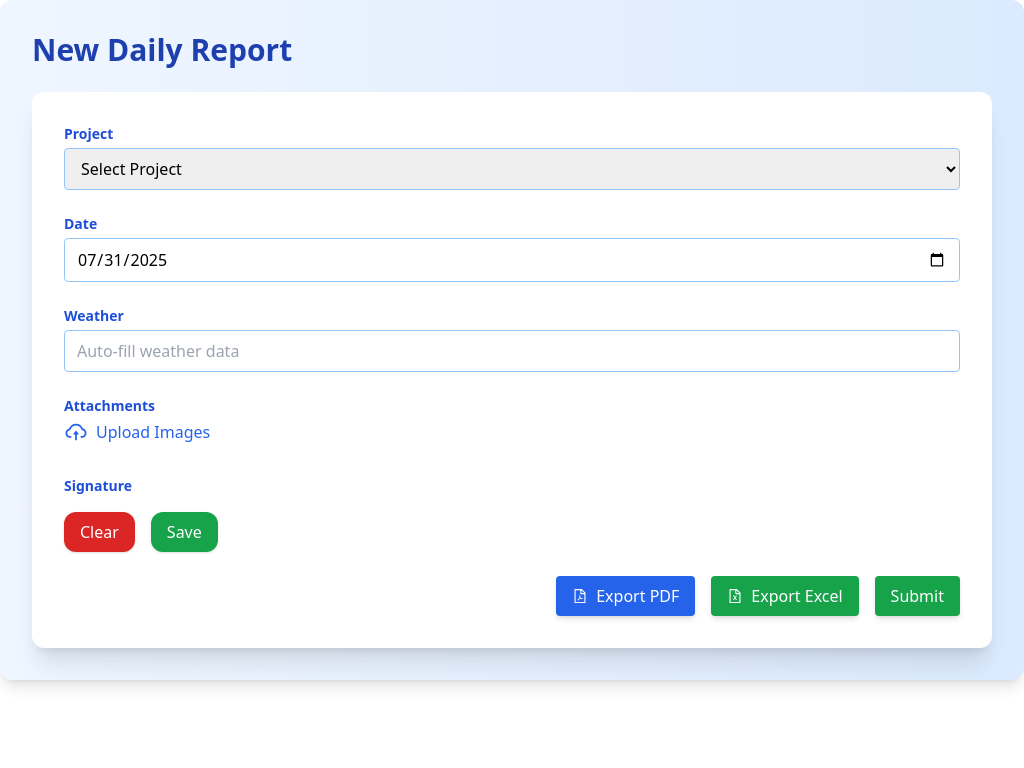
Test: NewDailyReport › shows error if PDF export fails
Click the button "Export PDF".
click(626, 596)  # box left=556, top=576, right=695, bottom=616
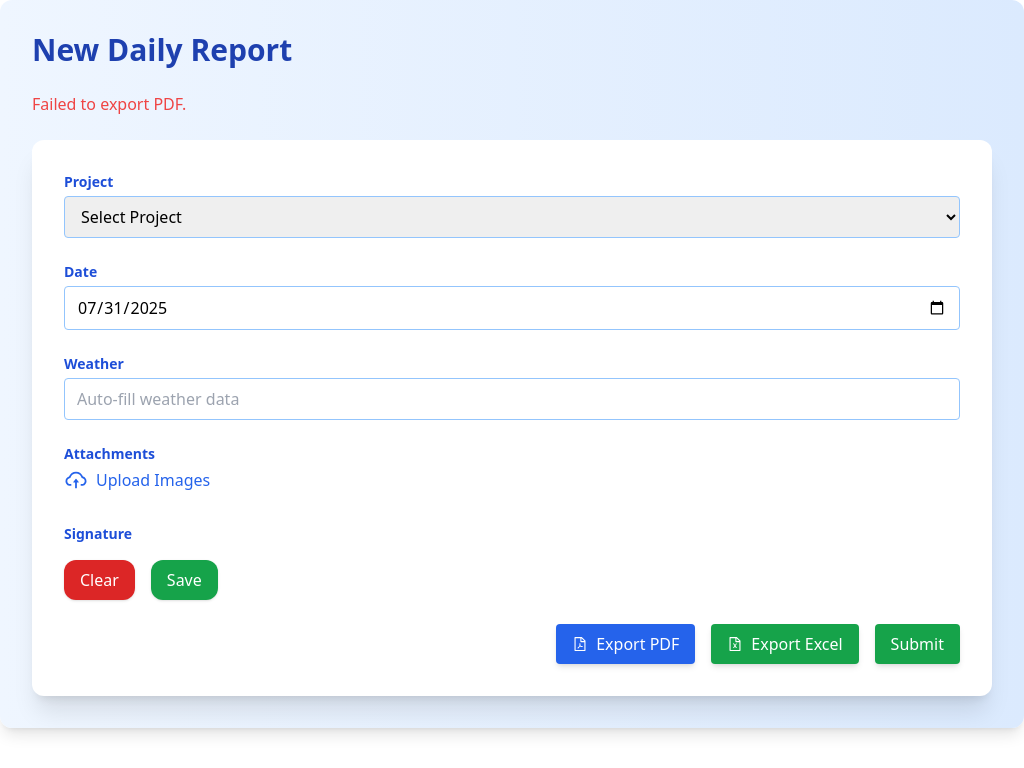
Expected: the text "Failed to export PDF." is shown, left=32, top=93, right=186, bottom=115
